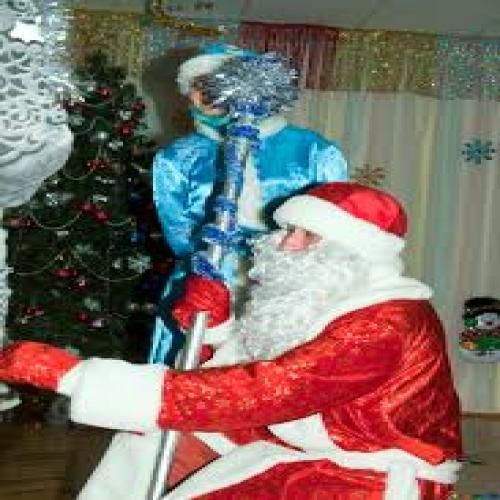Santa: (0, 180, 467, 498)
